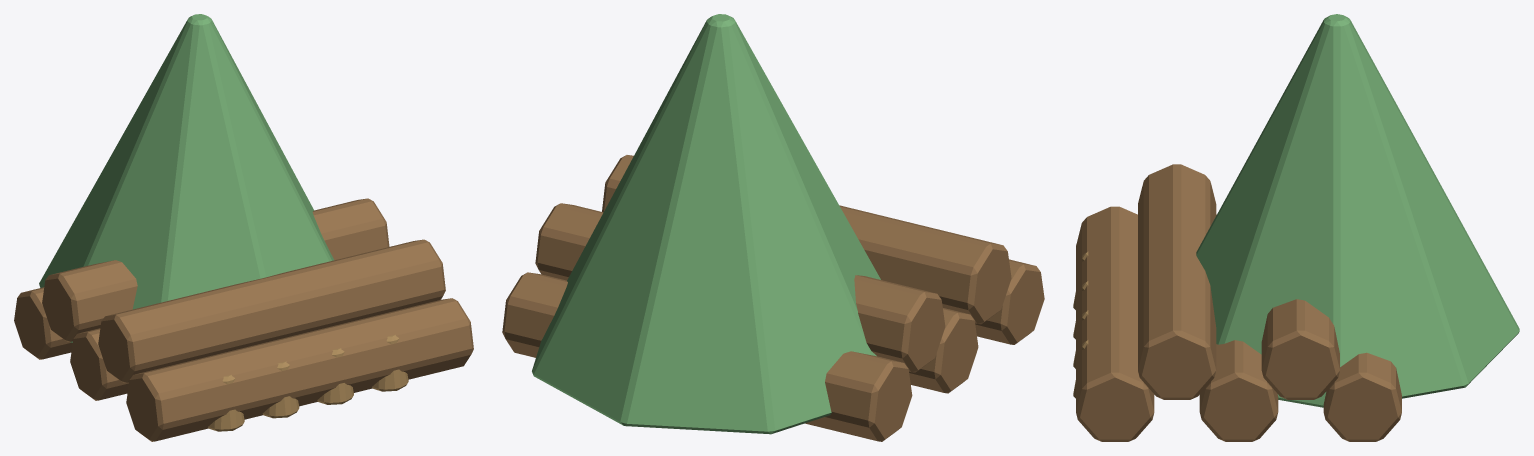
The model's file is north_pine_stand.glb.
The picture shows the model from 3 angles, left to right: view 1: azimuth 30°, elevation 25°; view 2: azimuth 150°, elevation 25°; view 3: azimuth 270°, elevation 25°; orthographic projection. The views are drawn at different scales.
Size of the model in its own units: 1.56 by 1.46 by 1.73.
